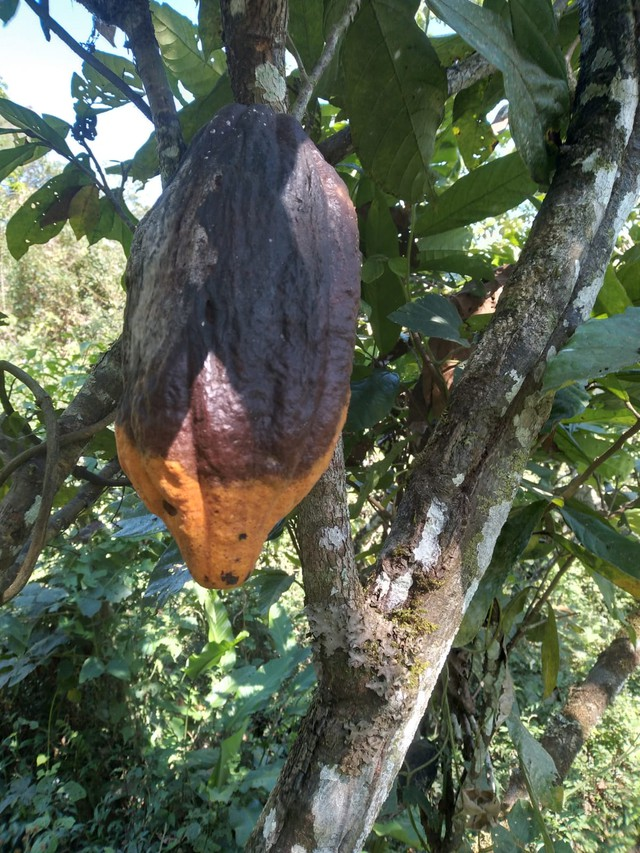phytophthora palmivora: (100, 99, 365, 594)
